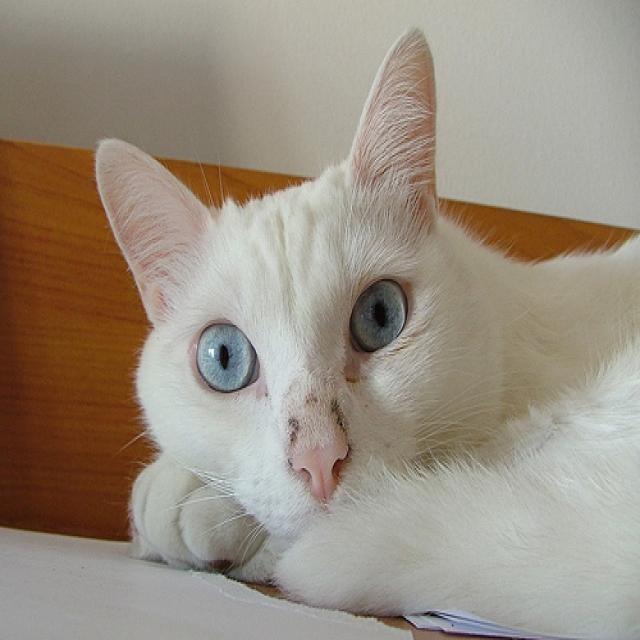cat: (93, 27, 640, 640)
